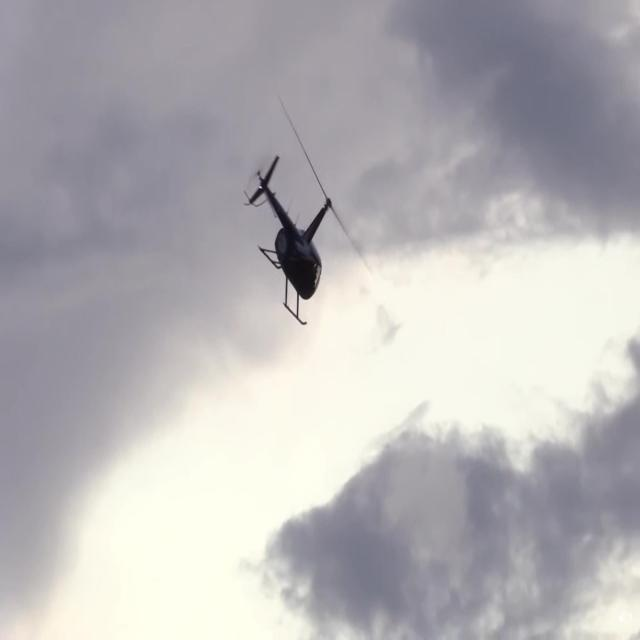CIV_HELO: (247, 154, 333, 328)
